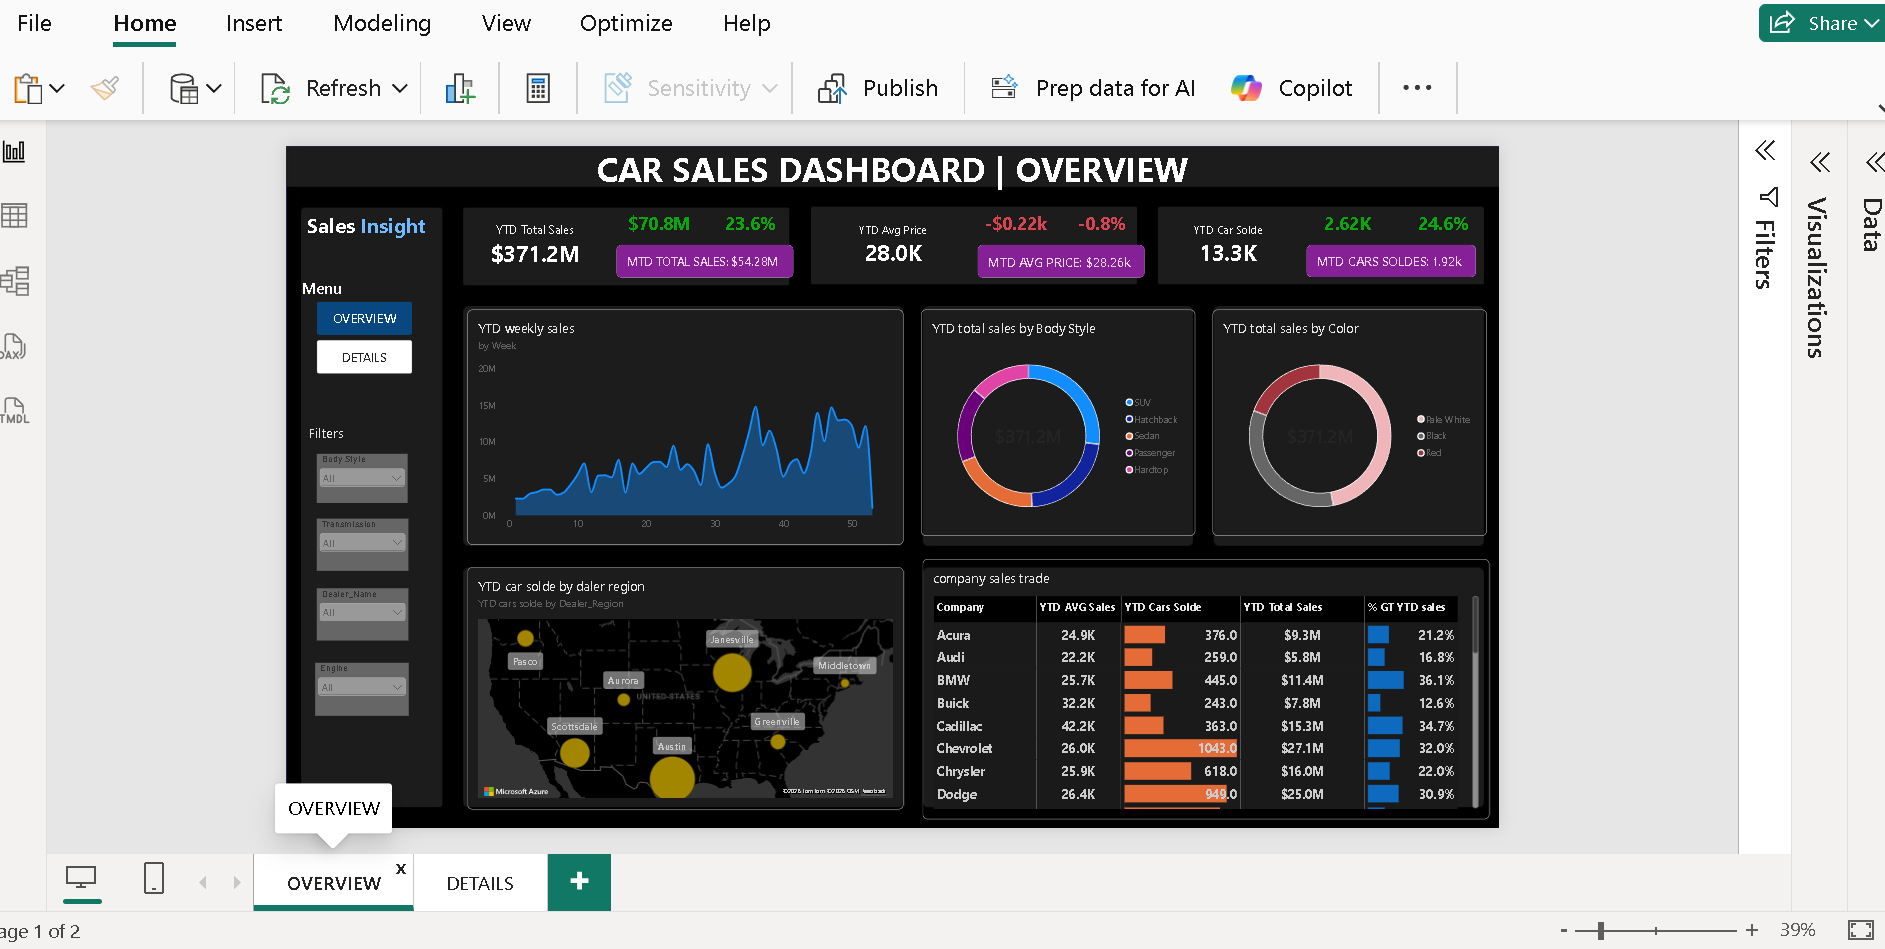

The dashboard page shown, as its layout file describes it:
{"tool":"powerbi","page":{"name":"OVERVIEW","canvas":[1920,1080],"ordinal":0},"visuals":[{"type":"cardVisual","fields":{"Data":["car_data.YTD total sales"]},"box":[285.7,102.9,220,108.6],"z":0},{"type":"cardVisual","fields":{"Data":["car_data.sales difference"]},"box":[522,102,135.7,37.1],"z":1000},{"type":"cardVisual","fields":{"Data":["car_data.YOY growth"]},"box":[666,102,135.5,37.3],"z":2000},{"type":"cardVisual","fields":{"Data":["car_data.MTD"]},"box":[522,156,280,52],"z":3000},{"type":"cardVisual","fields":{"Data":["car_data.AVG TOTAL SALES"]},"box":[850,102,220,108.6],"z":4000},{"type":"cardVisual","fields":{"Data":["car_data.avg YTY sales diff"]},"box":[1086,102,136,38],"z":5000},{"type":"cardVisual","fields":{"Data":["car_data.avg YTY grouth"]},"box":[1222,102,136,38],"z":6000},{"type":"cardVisual","fields":{"Data":["car_data.MTM AVG prices"]},"box":[1094,156,264,52],"z":7000},{"type":"cardVisual","fields":{"Data":["car_data.YTD cars solde"]},"box":[1382,102,218,108],"z":8000},{"type":"cardVisual","fields":{"Data":["car_data.cars solde diff YTY"]},"box":[1614,102,135.7,37.1],"z":9000},{"type":"cardVisual","fields":{"Data":["car_data.yty cars solde grouth"]},"box":[1764,102,135.5,37.3],"z":10000},{"type":"cardVisual","fields":{"Data":["car_data.mtd car solde"]},"box":[1614.6,156.1,268.3,51.2],"z":11000},{"type":"areaChart","fields":{"Category":["calendar table.Week"],"Y":["Sum(car_data.Price ($))"]},"box":[286,258,690,372],"z":12000},{"type":"donutChart","fields":{"Category":["car_data.Body Style"],"Y":["car_data.YTD total sales"]},"box":[1006,260,434,358],"z":13000},{"type":"donutChart","fields":{"Category":["car_data.Color"],"Y":["car_data.YTD total sales"]},"box":[1466,260,434,358],"z":14000},{"type":"azureMap","title":"YTD car solde by daler region","fields":{"Category":["car_data.Dealer_Region"],"Size":["car_data.YTD cars solde"]},"box":[286.7,666.7,690,383.3],"z":15000},{"type":"tableEx","title":"company sales trade","fields":{"Values":["car_data.Company","car_data.YTD avg sales","car_data.YTD cars solde","car_data.YTD total sales","car_data.YOY growth"]},"box":[1007.7,653.8,897.1,411.8],"z":16000},{"type":"textbox","box":[34.6,0,1865.4,73.1],"z":17000},{"type":"textbox","box":[35,212,1865,150],"z":18000},{"type":"textbox","box":[0,0,1919.5,73.2],"z":19000},{"type":"pageNavigator","box":[48.8,246.3,151.4,114.3],"z":20000},{"type":"slicer","fields":{"Values":["car_data.Body Style"]},"box":[48.8,487.5,143.9,78],"z":21000},{"type":"slicer","fields":{"Values":["car_data.Transmission"]},"box":[48.8,588.8,145,82.5],"z":22000},{"type":"slicer","fields":{"Values":["car_data.Dealer_Name"]},"box":[48.8,698.8,145,83],"z":23000},{"type":"slicer","fields":{"Values":["car_data.Engine"]},"box":[46,818,148,84],"z":24000},{"type":"textbox","box":[36.6,439,173.2,48.8],"z":25000},{"type":"textbox","box":[24.4,207.3,102.4,63.4],"z":26000},{"type":"textbox","box":[34.1,102.4,217.1,80.5],"z":26001}]}

Visuals, with their boxes on the page's 1920x1080 design canvas (x1, y1, x2, y2). These are canvas units, not pixel positions in the 1885x949 screenshot, which may show the page scaled, cropped or inside an application window:
cardVisual - car_data.YTD total sales: <bbox>286, 103, 506, 212</bbox>
cardVisual - car_data.sales difference: <bbox>522, 102, 658, 139</bbox>
cardVisual - car_data.YOY growth: <bbox>666, 102, 802, 139</bbox>
cardVisual - car_data.MTD: <bbox>522, 156, 802, 208</bbox>
cardVisual - car_data.AVG TOTAL SALES: <bbox>850, 102, 1070, 211</bbox>
cardVisual - car_data.avg YTY sales diff: <bbox>1086, 102, 1222, 140</bbox>
cardVisual - car_data.avg YTY grouth: <bbox>1222, 102, 1358, 140</bbox>
cardVisual - car_data.MTM AVG prices: <bbox>1094, 156, 1358, 208</bbox>
cardVisual - car_data.YTD cars solde: <bbox>1382, 102, 1600, 210</bbox>
cardVisual - car_data.cars solde diff YTY: <bbox>1614, 102, 1750, 139</bbox>
cardVisual - car_data.yty cars solde grouth: <bbox>1764, 102, 1900, 139</bbox>
cardVisual - car_data.mtd car solde: <bbox>1615, 156, 1883, 207</bbox>
areaChart - calendar table.Week x Sum(car_data.Price ($)): <bbox>286, 258, 976, 630</bbox>
donutChart - car_data.Body Style x car_data.YTD total sales: <bbox>1006, 260, 1440, 618</bbox>
donutChart - car_data.Color x car_data.YTD total sales: <bbox>1466, 260, 1900, 618</bbox>
"YTD car solde by daler region" azureMap: <bbox>287, 667, 977, 1050</bbox>
"company sales trade" tableEx: <bbox>1008, 654, 1905, 1066</bbox>
textbox: <bbox>35, 0, 1900, 73</bbox>
textbox: <bbox>35, 212, 1900, 362</bbox>
textbox: <bbox>0, 0, 1920, 73</bbox>
pageNavigator: <bbox>49, 246, 200, 361</bbox>
slicer - car_data.Body Style: <bbox>49, 488, 193, 566</bbox>
slicer - car_data.Transmission: <bbox>49, 589, 194, 671</bbox>
slicer - car_data.Dealer_Name: <bbox>49, 699, 194, 782</bbox>
slicer - car_data.Engine: <bbox>46, 818, 194, 902</bbox>
textbox: <bbox>37, 439, 210, 488</bbox>
textbox: <bbox>24, 207, 127, 271</bbox>
textbox: <bbox>34, 102, 251, 183</bbox>
